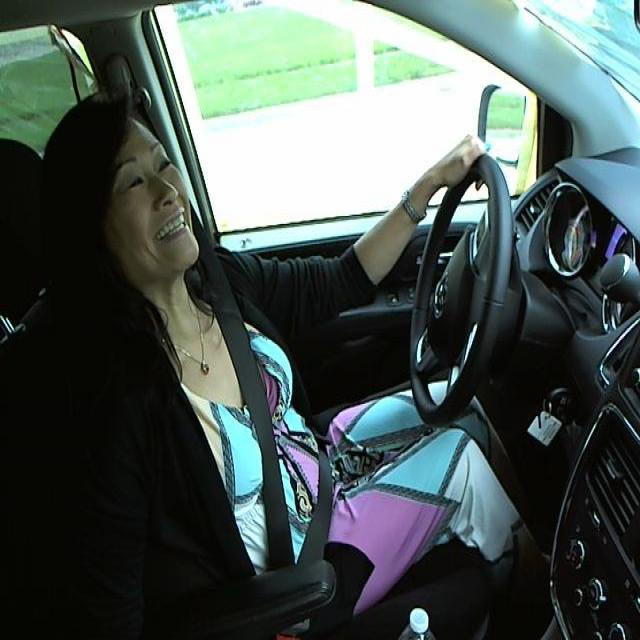seatbelt: (210, 294, 353, 570)
